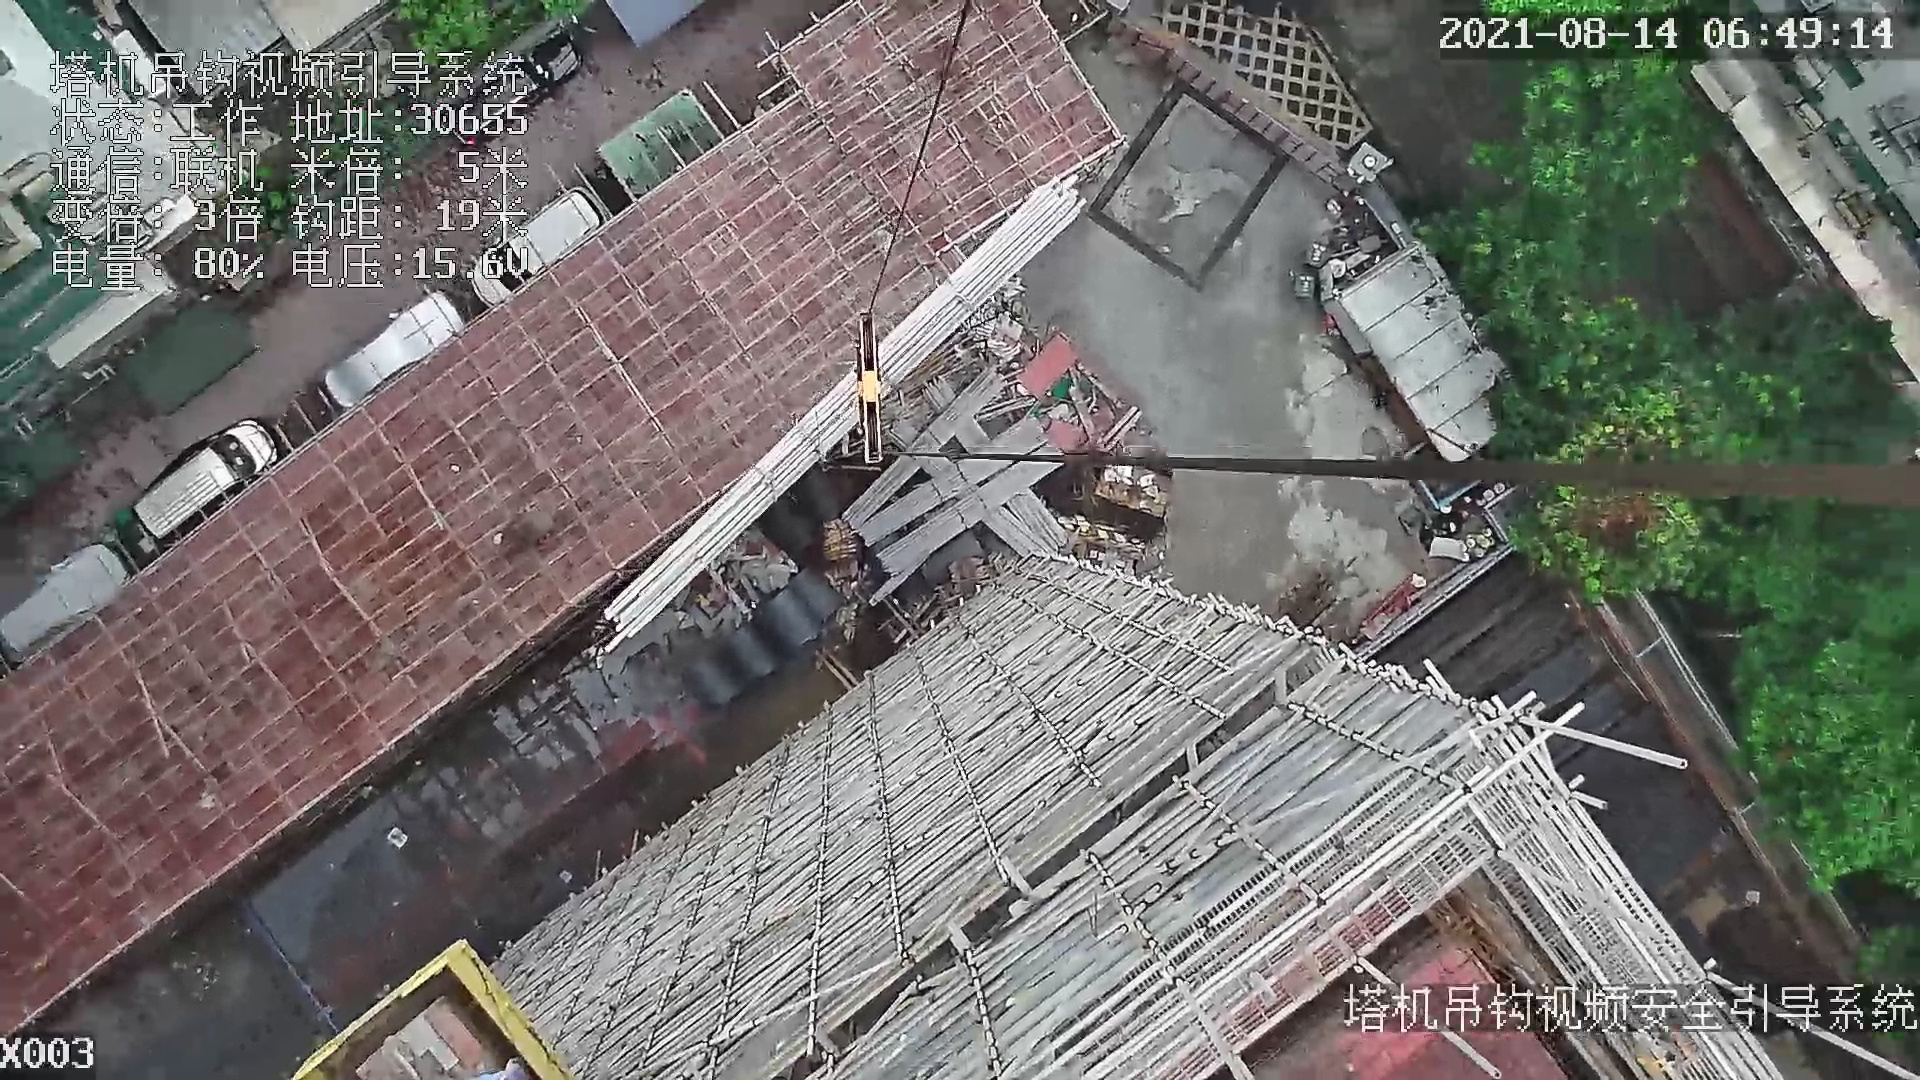hook: (845, 310, 897, 469)
